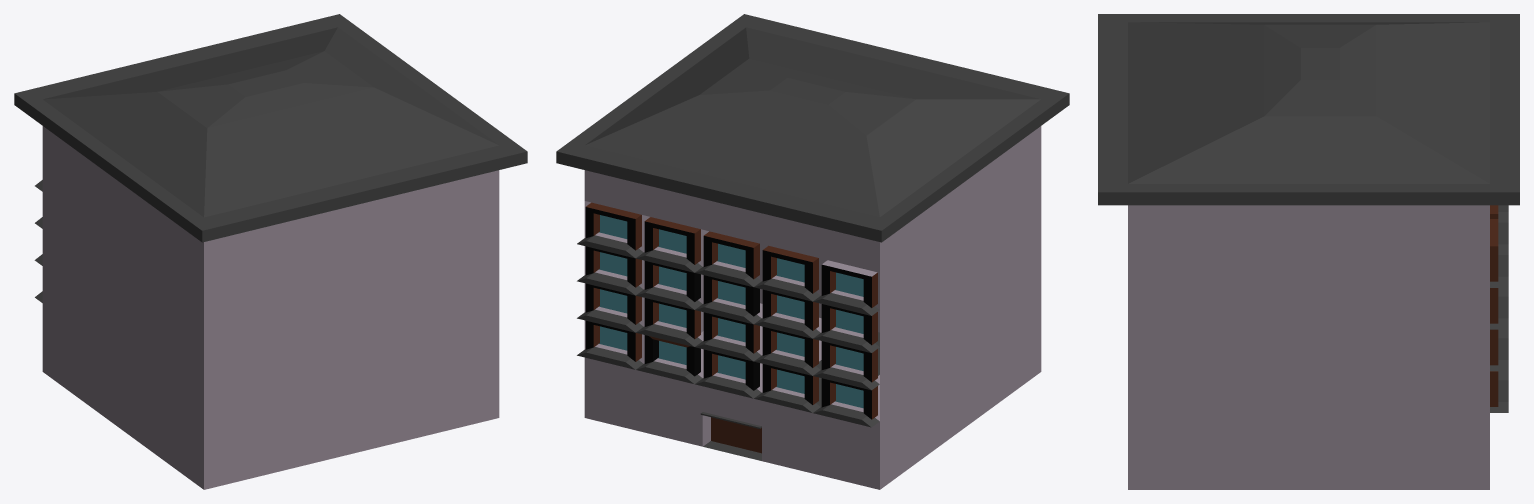
The model's file is museum.glb.
The picture shows the model from 3 angles, left to right: view 1: azimuth 30°, elevation 25°; view 2: azimuth 150°, elevation 25°; view 3: azimuth 270°, elevation 25°; orthographic projection. The views are drawn at different scales.
Parts seen in each view (by area): view 1: Building10; view 2: Building10; view 3: Building10.
Boxes of the visible parts, <box> form: Building10: <box>14,14,527,489</box>; Building10: <box>556,14,1069,489</box>; Building10: <box>1098,14,1519,489</box>.
Bounding box in the file's own units: 124 × 112 × 124.
